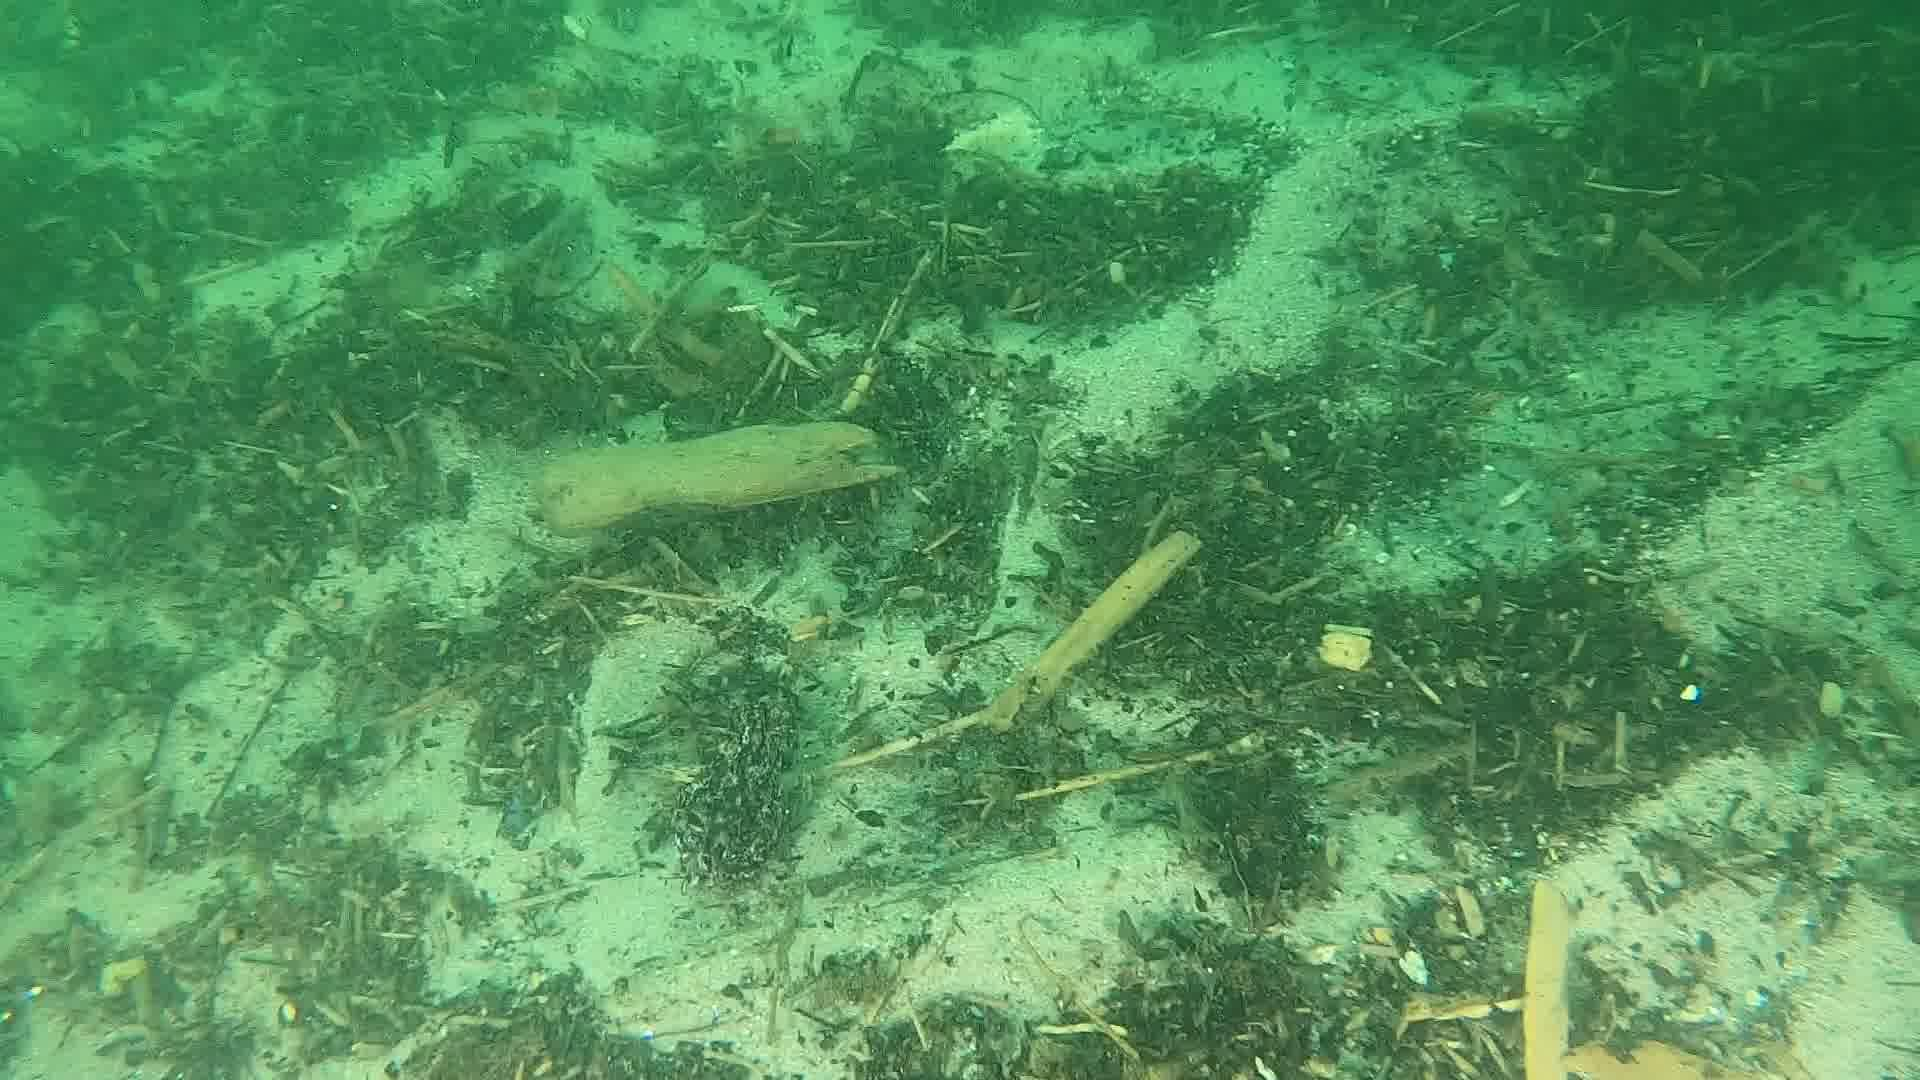wood: (977, 526, 1204, 736), (534, 418, 903, 537), (1519, 877, 1568, 1080)
